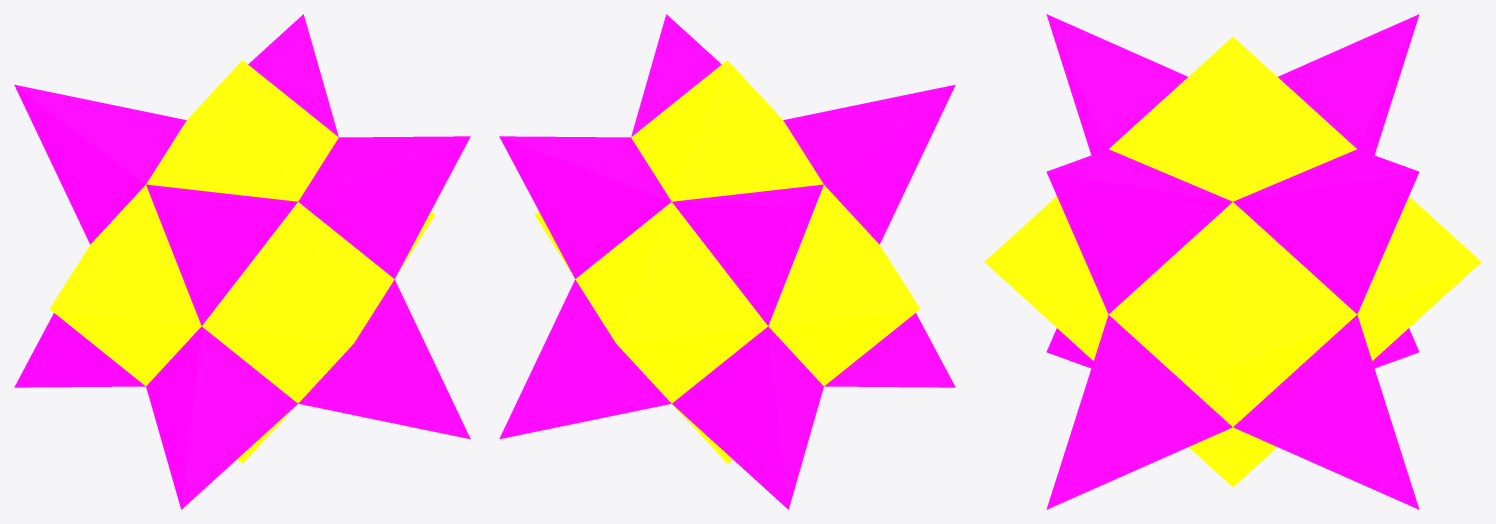
The model's file is Projectile.fbx.
3 views of the same model, side by side, from view 1: azimuth 30°, elevation 25°; view 2: azimuth 150°, elevation 25°; view 3: azimuth 270°, elevation 25° (orthographic). The views are drawn at different scales.
Parts seen in each view (by area): view 1: Cube; view 2: Cube; view 3: Cube.
Boxes of the visible parts, x1,y1,x2,y2 form: Cube: (14, 14, 470, 509); Cube: (499, 14, 955, 509); Cube: (984, 14, 1481, 509).
Bounding box in the file's own units: 40 × 40 × 40.
